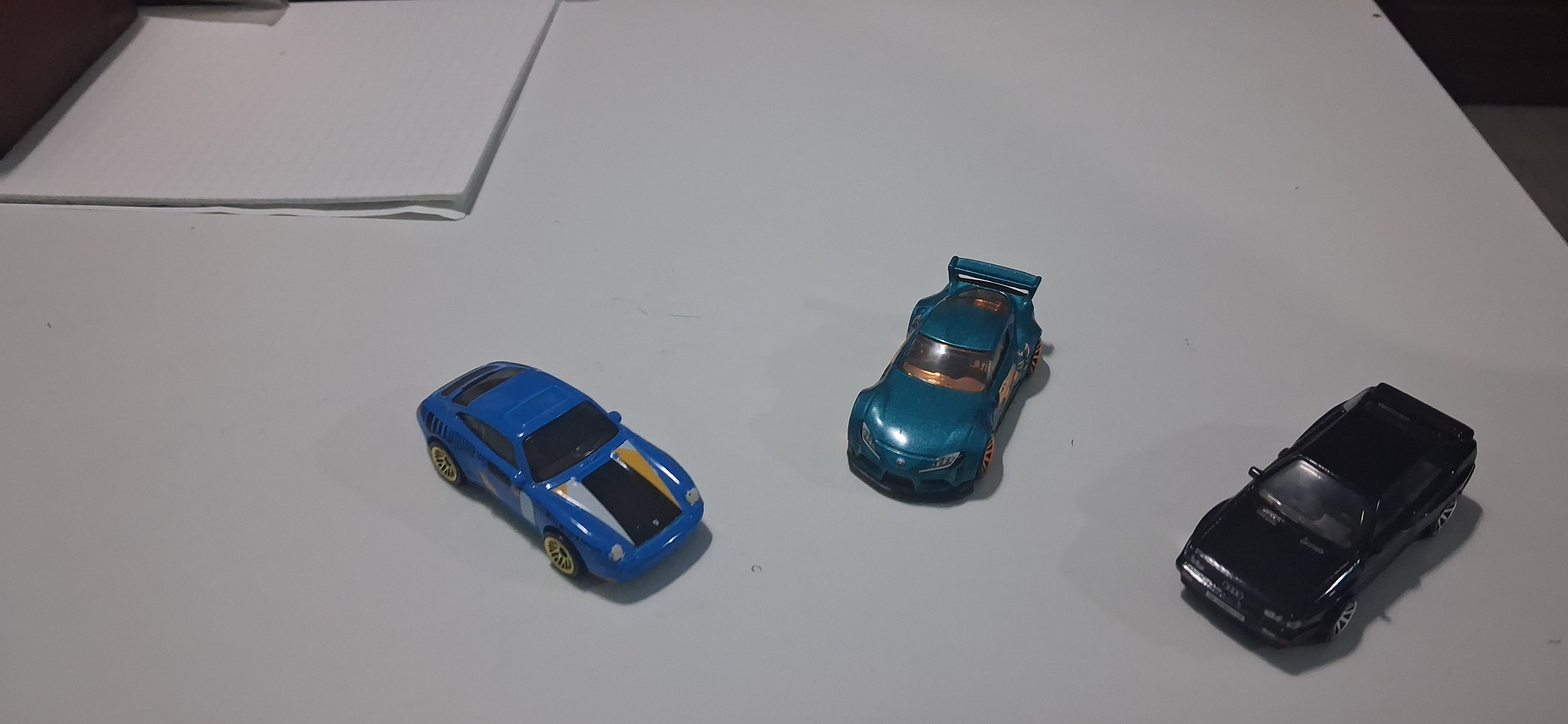Audi_Quattro: (1149, 363, 1508, 692)
Porsche_Carrera: (360, 312, 736, 636)
Toyota_GR_Supra: (821, 242, 1083, 599)
